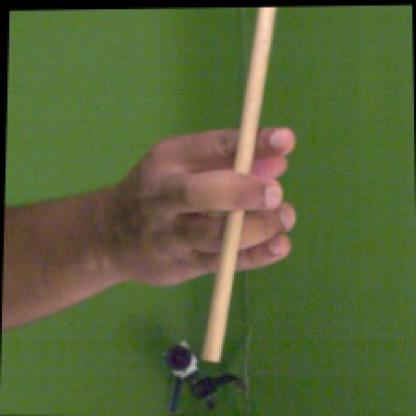Hand: (115, 124, 298, 292)
